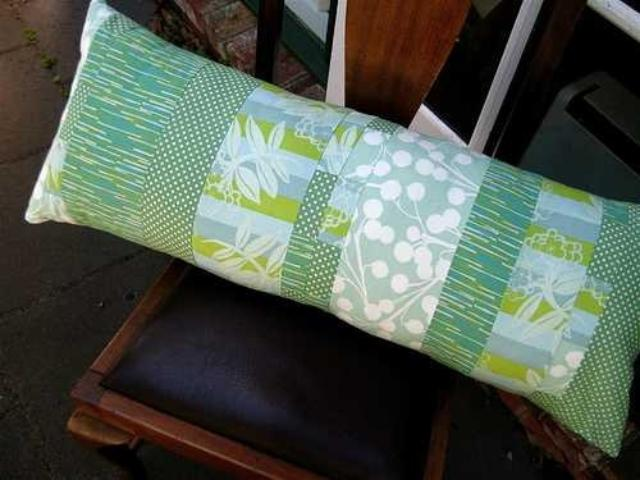pillow: (24, 0, 638, 460)
